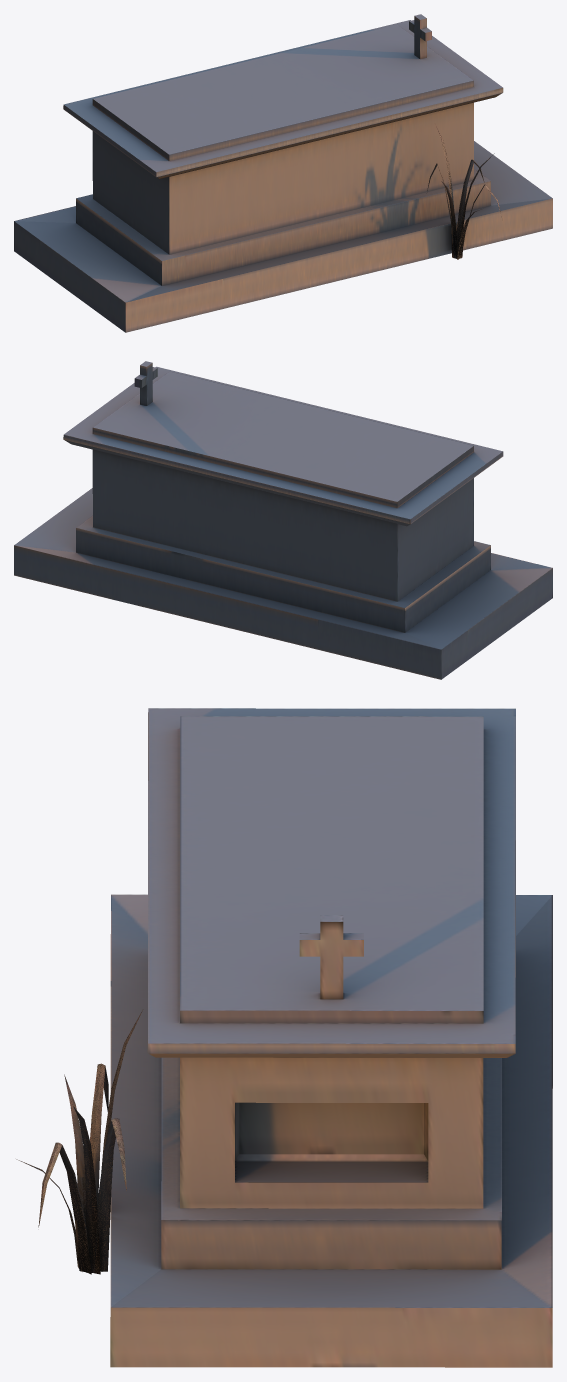
3 views of the same model, one above another, from view 1: azimuth 30°, elevation 25°; view 2: azimuth 150°, elevation 25°; view 3: azimuth 270°, elevation 25° (orthographic). The views are drawn at different scales.
Parts seen in each view (by area): view 1: Tombe5; view 2: Tombe5; view 3: Tombe5.
Part boxes in pixels (<box>): Tombe5: <box>14,14,552,332</box>; Tombe5: <box>14,361,552,679</box>; Tombe5: <box>16,708,552,1367</box>.
Size of the model in its own units: 4.29 by 1.82 by 2.36.
Materials: 1 (1 with a texture image).
